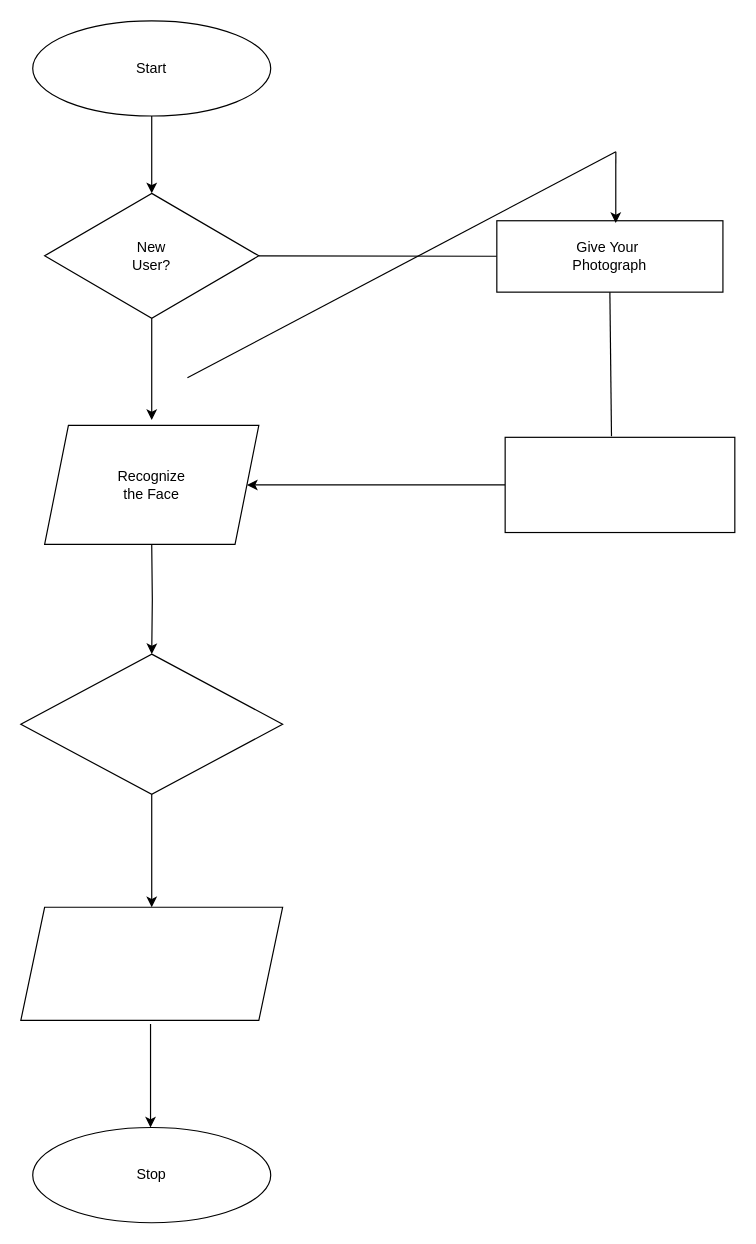
This 756x1244 diagram has some shape labels left out. The shapes that lost their labels are listed below. From the top down, each one's centre as x and y in pixels, then its label:
At point (619, 484): "Store the Face Data in Folder on your Name".
At point (151, 723): "Face Recognize".
At point (151, 963): "Stored in CSV file with Registration Number & Date Time of Entry".
